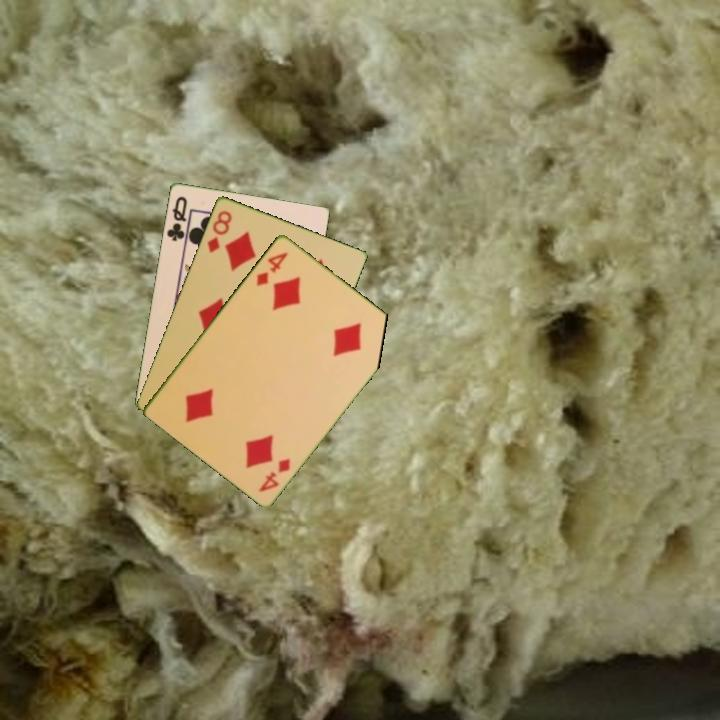4d: (252, 248, 291, 289), (255, 454, 293, 495)
8d: (203, 207, 235, 255)
Qc: (163, 192, 193, 246)
